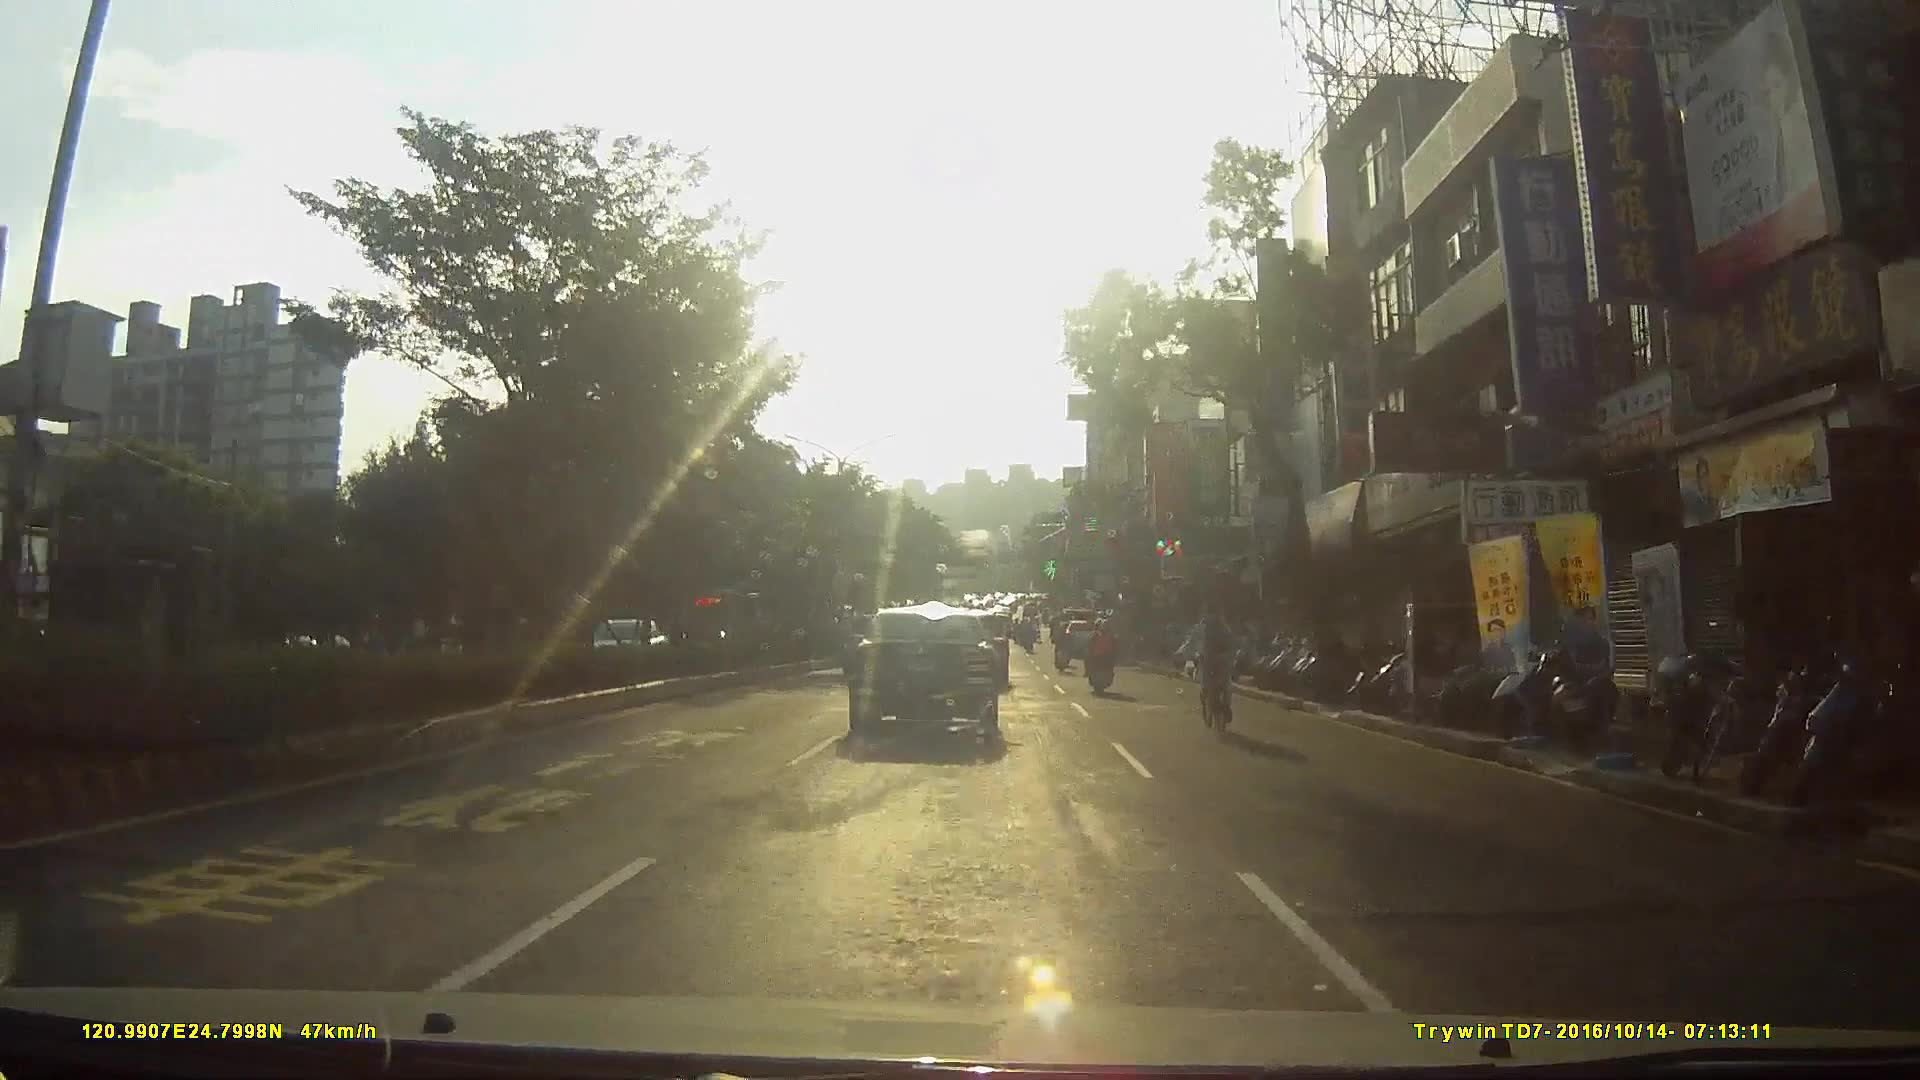rider: (1189, 593, 1252, 736), (1084, 612, 1118, 689), (1051, 615, 1073, 671)
vehicle: (846, 606, 1013, 753)
